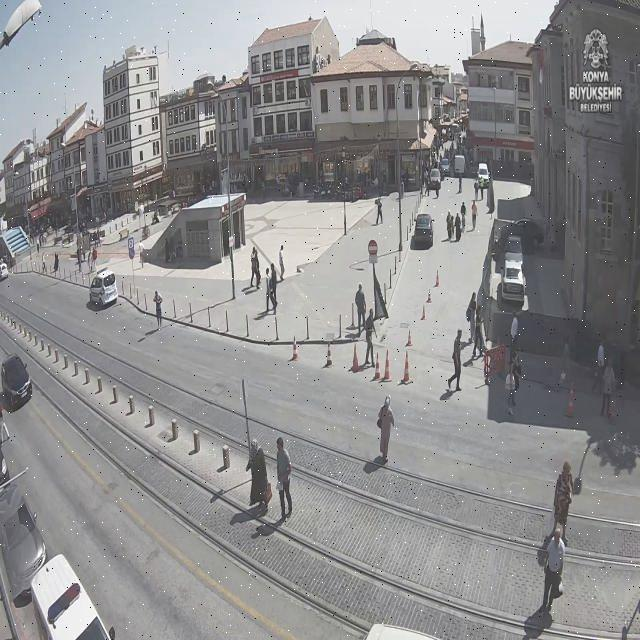Car: (1, 347, 34, 413), (398, 209, 441, 250), (504, 217, 547, 247), (90, 267, 120, 307), (474, 158, 493, 188)
Van: (450, 147, 470, 178)
